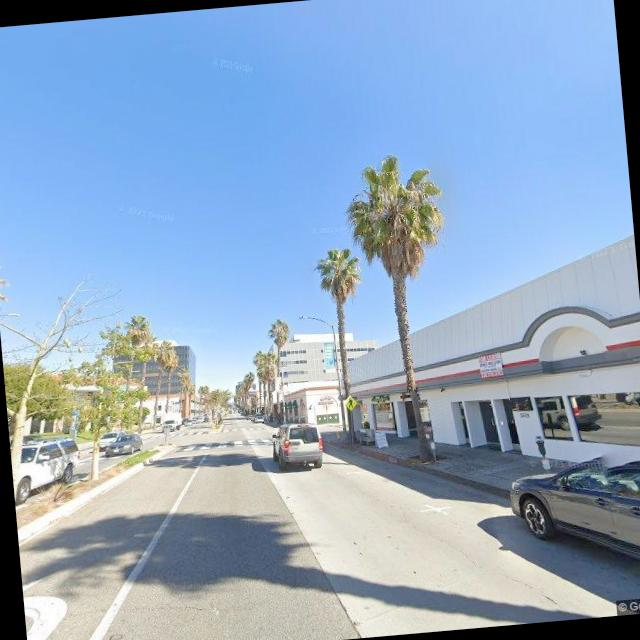crack: (410, 504, 560, 618), (60, 588, 233, 628)
